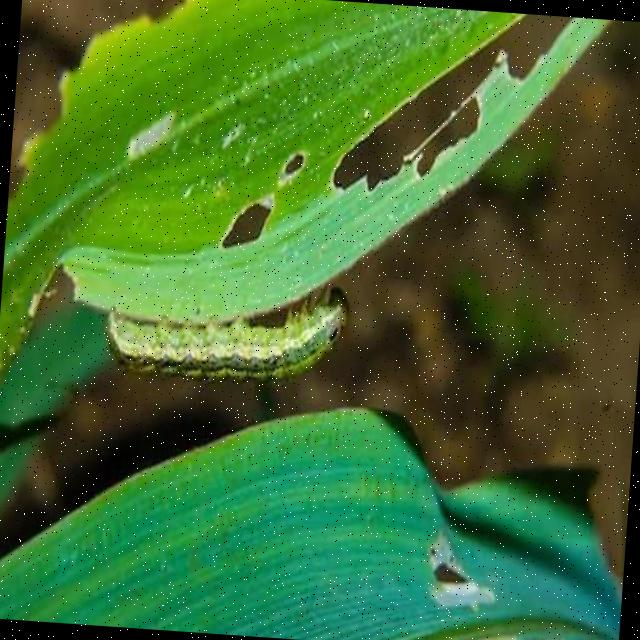worm: (103, 270, 354, 396)
